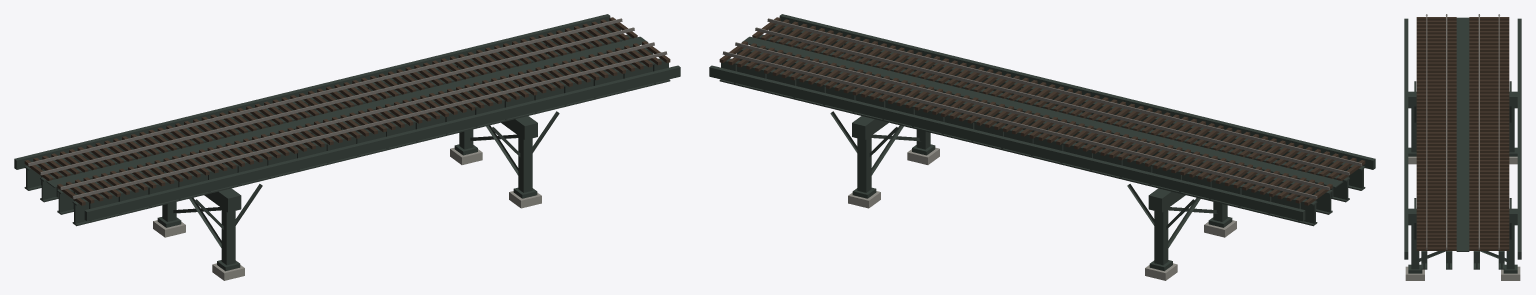
Rendered from l_track_segment.glb.
The picture shows the model from 3 angles, left to right: view 1: azimuth 30°, elevation 25°; view 2: azimuth 150°, elevation 25°; view 3: azimuth 270°, elevation 25°; orthographic projection. The views are drawn at different scales.
Visible parts, largest first — view 1: l_track_segment; view 2: l_track_segment; view 3: l_track_segment.
Part boxes in pixels (x1,y1,x2,y2): l_track_segment: (14, 14, 680, 280); l_track_segment: (709, 14, 1375, 280); l_track_segment: (1404, 14, 1521, 280).
Size of the model in its own units: 40 by 7 by 8.5.
Materials: 1 (1 with a texture image).
